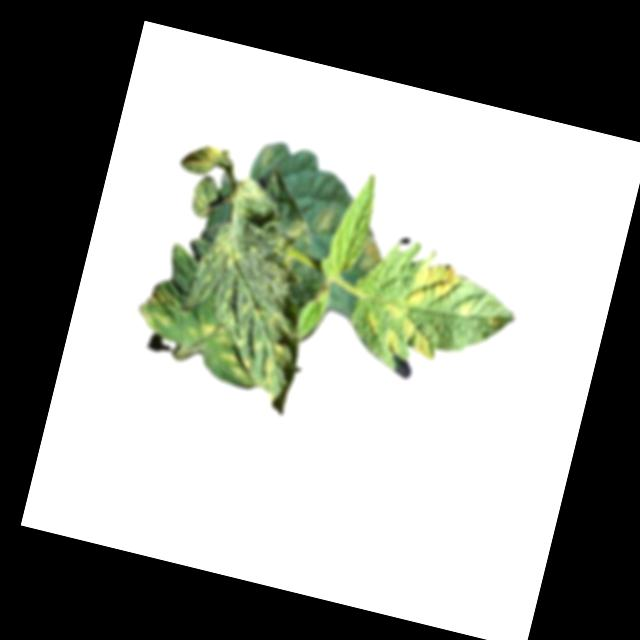Leaf_Mold: (361, 294, 444, 364), (402, 254, 461, 314), (247, 336, 298, 400), (136, 285, 182, 333), (203, 231, 247, 276), (181, 138, 228, 179), (187, 317, 235, 352), (353, 224, 386, 273), (213, 350, 248, 381), (283, 214, 312, 244), (309, 205, 337, 234)
